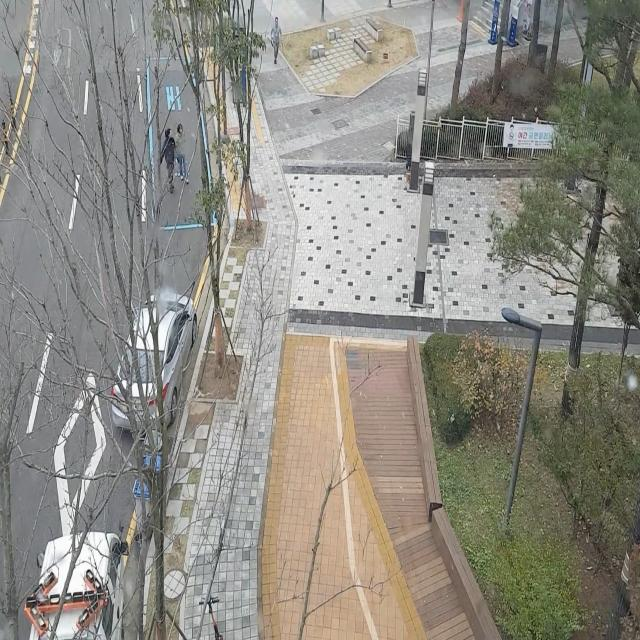Car: (101, 272, 219, 443)
Truck: (19, 492, 137, 640)
